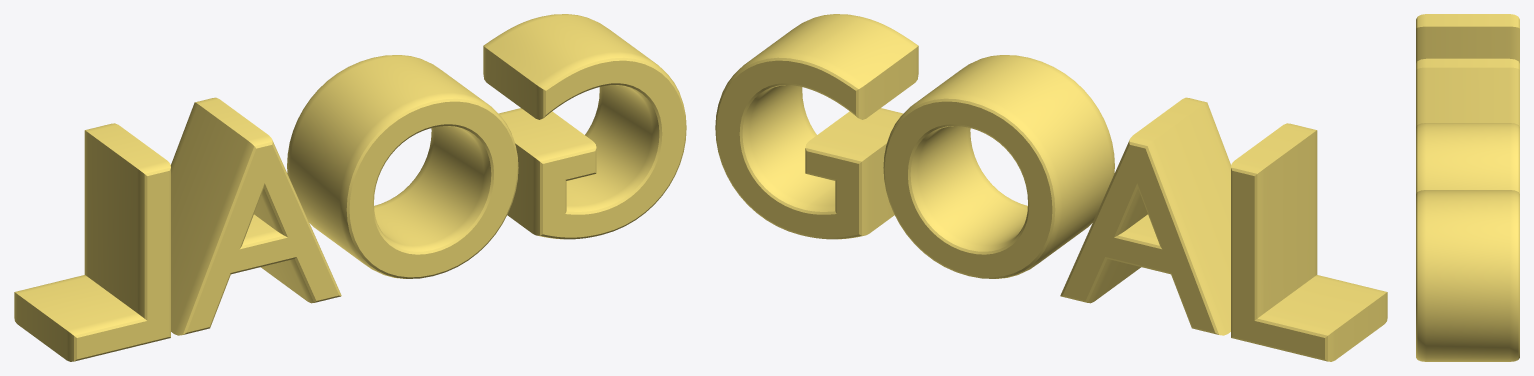
File: prism_goal_label.obj
3 views of the same model, side by side, from view 1: azimuth 30°, elevation 25°; view 2: azimuth 150°, elevation 25°; view 3: azimuth 270°, elevation 25° (orthographic). The views are drawn at different scales.
Visible parts, largest first — view 1: PrismGoalLabel; view 2: PrismGoalLabel; view 3: PrismGoalLabel.
Part boxes in pixels (x1,y1,x2,y2): PrismGoalLabel: [14, 14, 686, 361]; PrismGoalLabel: [715, 14, 1387, 361]; PrismGoalLabel: [1416, 14, 1519, 361].
Bounding box in the file's own units: 1.08 × 0.3 × 0.186.
Materials: 1 (1 with a texture image).
